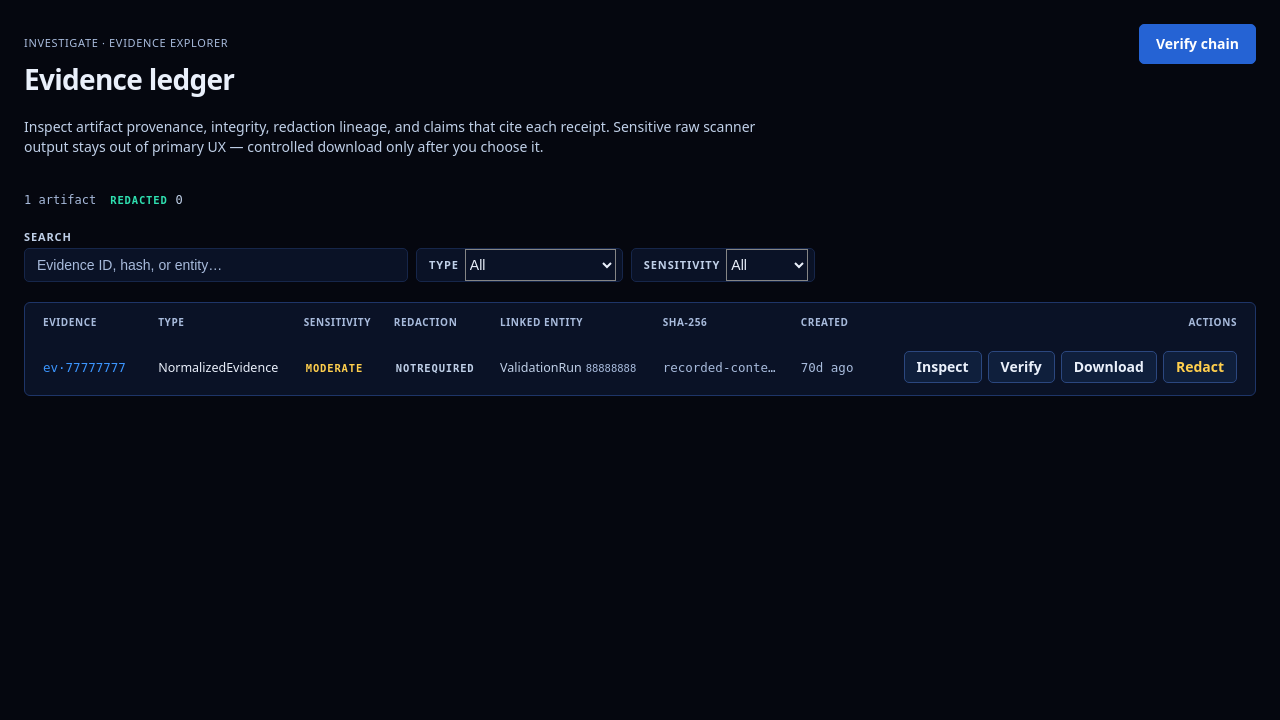
it: EvidenceLedger › inspects provenance and loads linked claims for an artifact
Click the button "Inspect" at (943, 367), box [904,351,982,383]
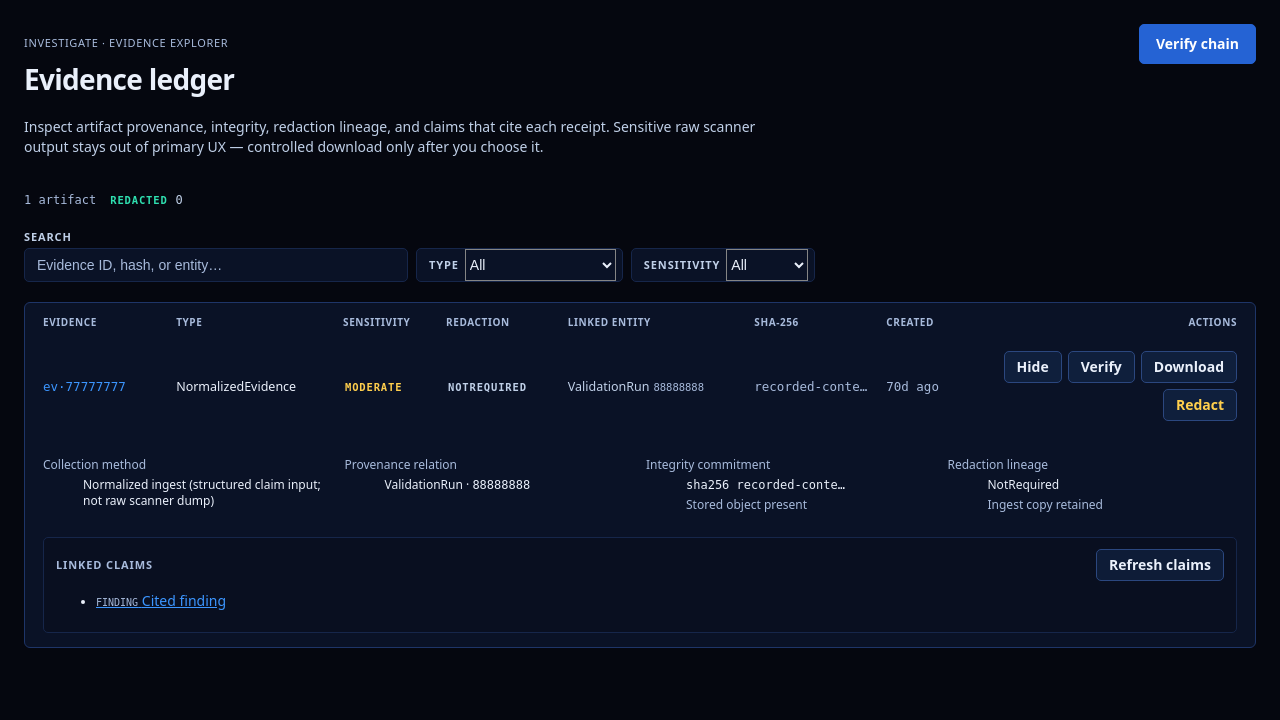
Now the text "Normalized ingest" is shown, box [83,476,321,509]
Now the link "Finding Cited finding" is shown, box [96,591,226,610]
